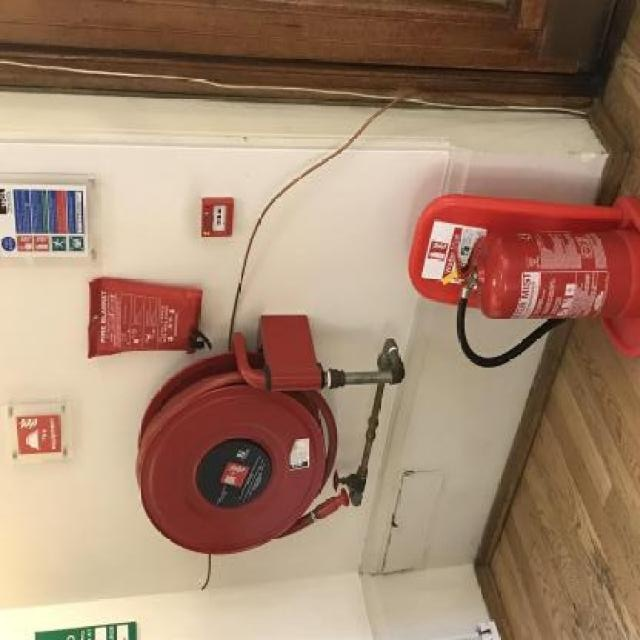fire extinguisher: (452, 231, 640, 369)
